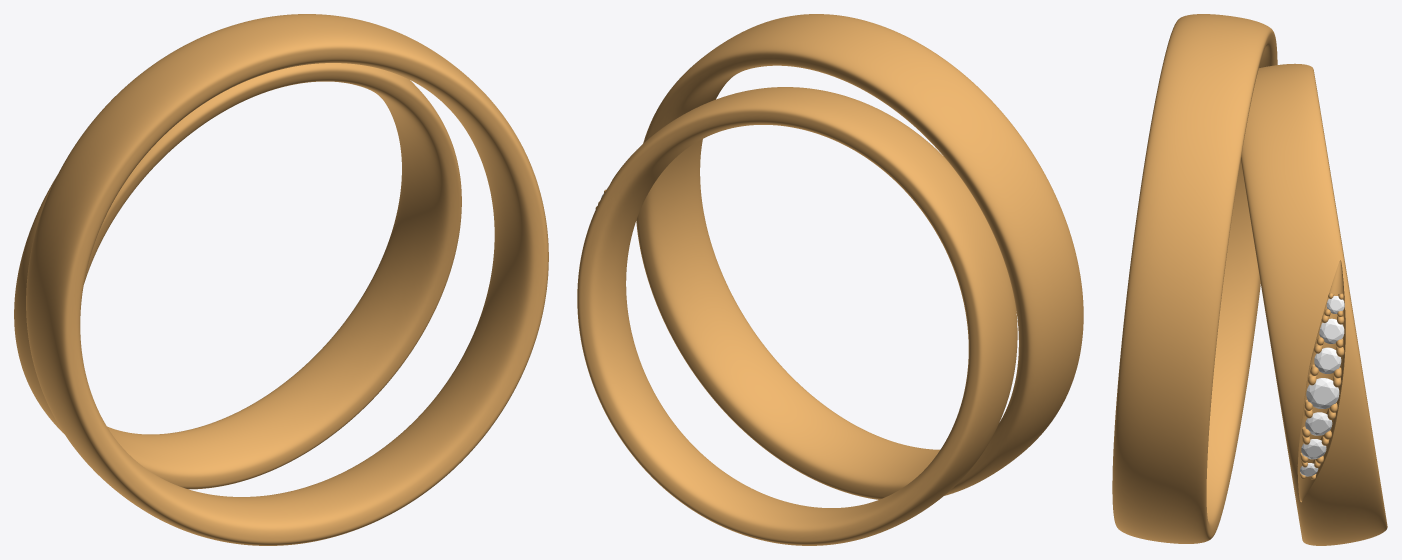
3 views of the same model, side by side, from view 1: azimuth 30°, elevation 25°; view 2: azimuth 150°, elevation 25°; view 3: azimuth 270°, elevation 25° (orthographic). The views are drawn at different scales.
Parts seen in each view (by area): view 1: Torus008, Torus007; view 2: Torus008, Torus007; view 3: Torus008, Torus007, Brillant_1007, Brillant_1008, Brillant_1011, Brillant_1009, Brillant_1012.
Boxes of the visible parts, box(x1,y1,x2,y2) form: Torus008: box(26, 14, 548, 545); Torus007: box(14, 63, 461, 489); Torus008: box(636, 14, 1083, 499); Torus007: box(577, 87, 1017, 545); Torus008: box(1112, 14, 1277, 543); Torus007: box(1240, 63, 1387, 545); Brillant_1007: box(1306, 378, 1339, 408); Brillant_1008: box(1314, 347, 1341, 373); Brillant_1011: box(1305, 412, 1332, 435); Brillant_1009: box(1319, 318, 1344, 343); Brillant_1012: box(1301, 439, 1326, 459).
Size of what is drawn, in the model's own units: 2.65 by 2.66 by 1.38.
